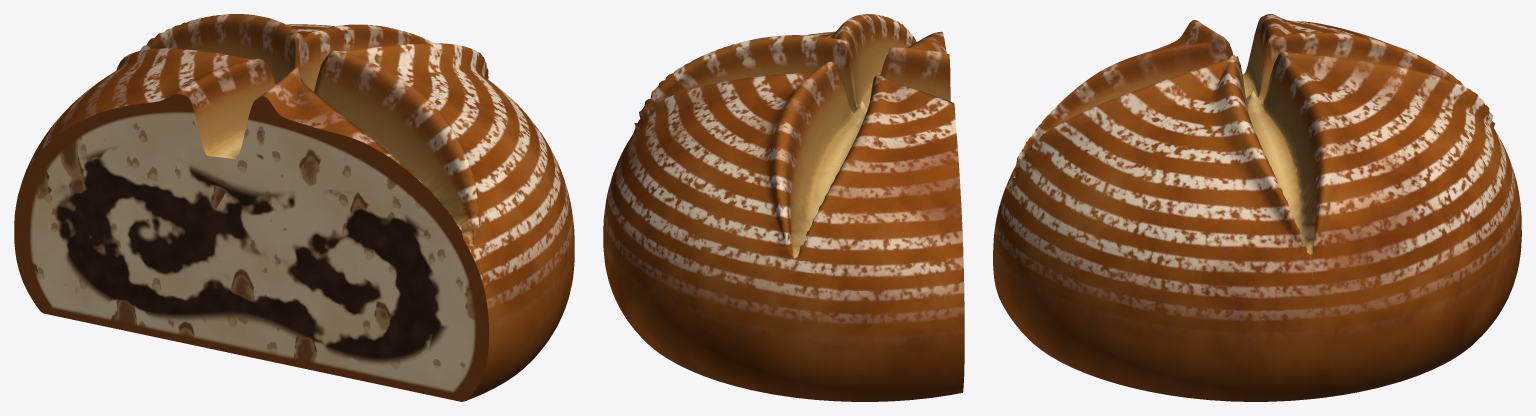
Rendered from campagne--choco-filling.glb.
The picture shows the model from 3 angles, left to right: view 1: azimuth 30°, elevation 25°; view 2: azimuth 150°, elevation 25°; view 3: azimuth 270°, elevation 25°; orthographic projection. The views are drawn at different scales.
Visible parts, largest first — view 1: campagne_choco-filling; view 2: campagne_choco-filling; view 3: campagne_choco-filling.
Boxes of the visible parts, x1,y1,x2,y2 form: campagne_choco-filling: (14, 14, 574, 401); campagne_choco-filling: (603, 14, 964, 401); campagne_choco-filling: (993, 14, 1521, 401).
Bounding box in the file's own units: 0.8997 × 0.5302 × 0.9853.
1 material, 1 textured.
